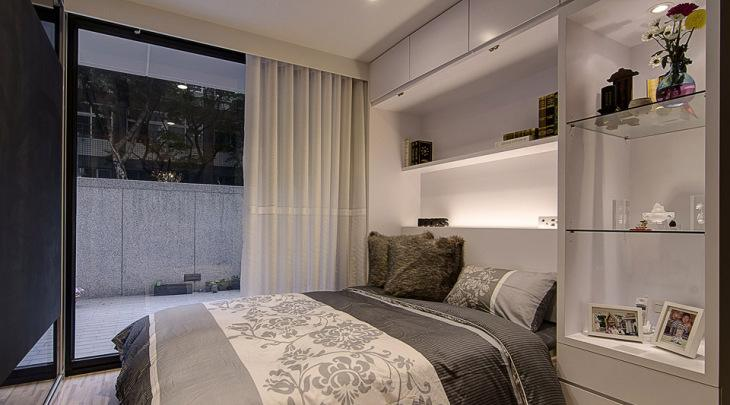床: (114, 291, 576, 405)
枕头: (439, 263, 547, 329), (369, 227, 468, 295)
灯: (174, 83, 192, 93)
